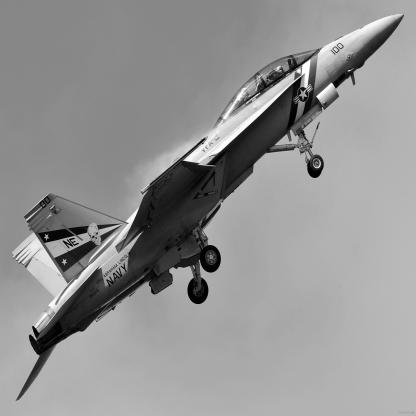F18: (13, 15, 405, 403)
